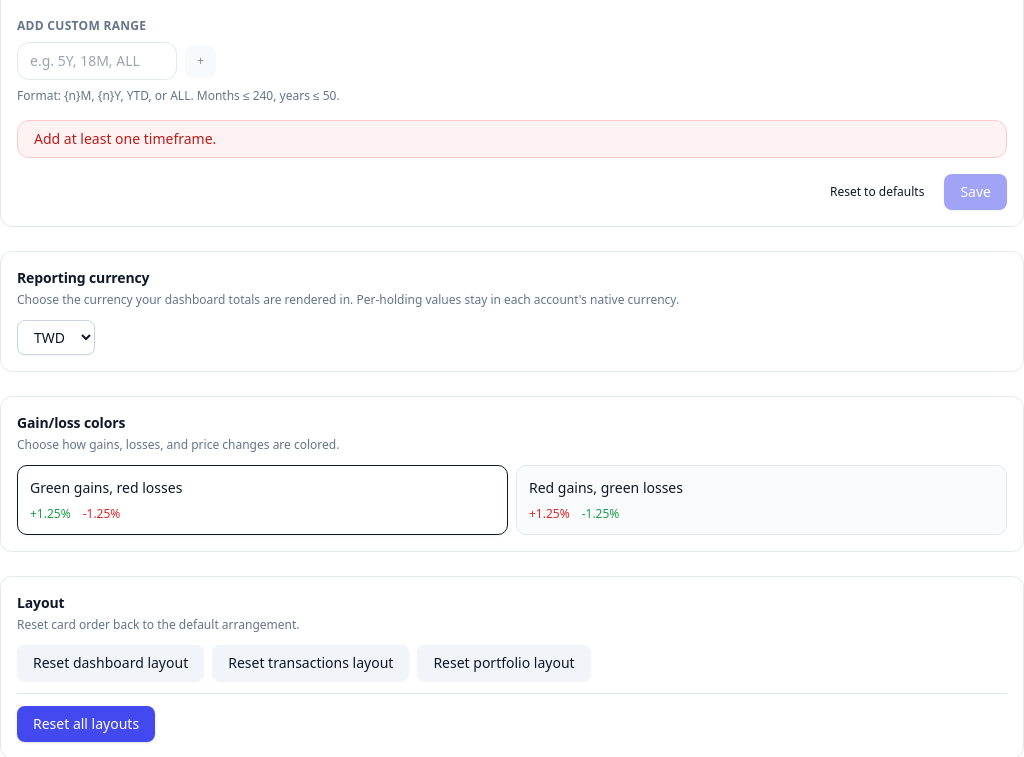
Test case: DisplayTabSection — reporting currency selector (KZO-180) › rolls back gain/loss color convention when PATCH fails
The width and height of the screenshot is (1024, 757).
(page scrolled)
Click the radio button with test id "display-price-color-convention-gain_red_loss_green".
click(606, 488)  # box [516,465,1007,535]
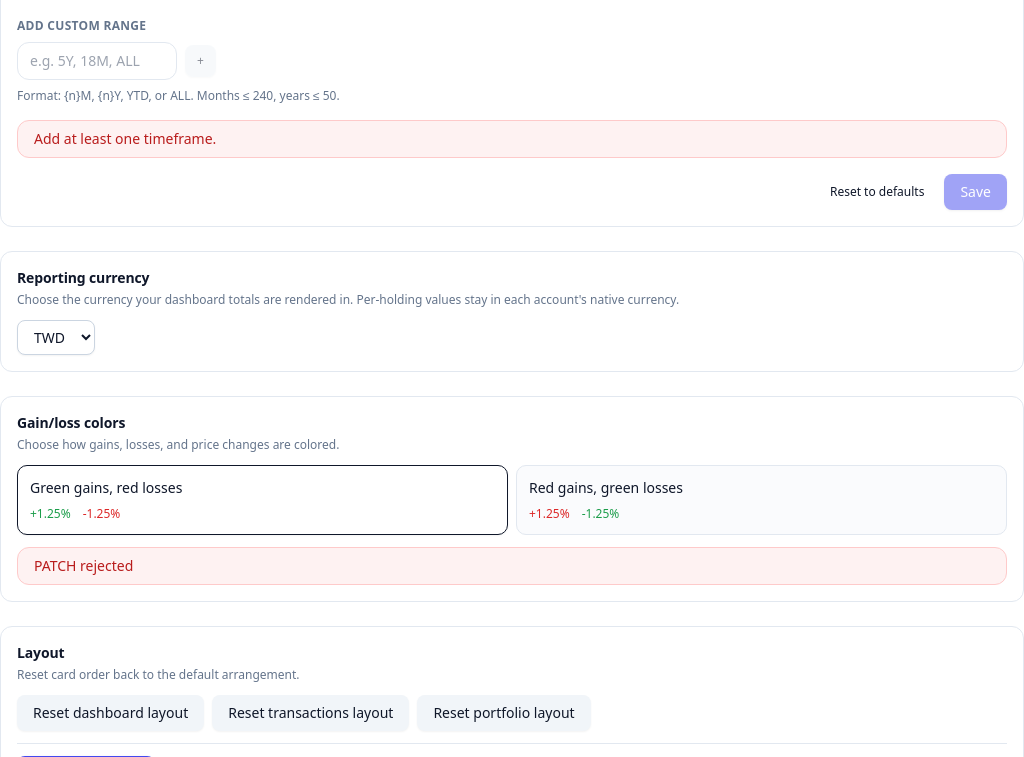
Expected: the message "PATCH rejected" is shown, [17,547,1007,585]
